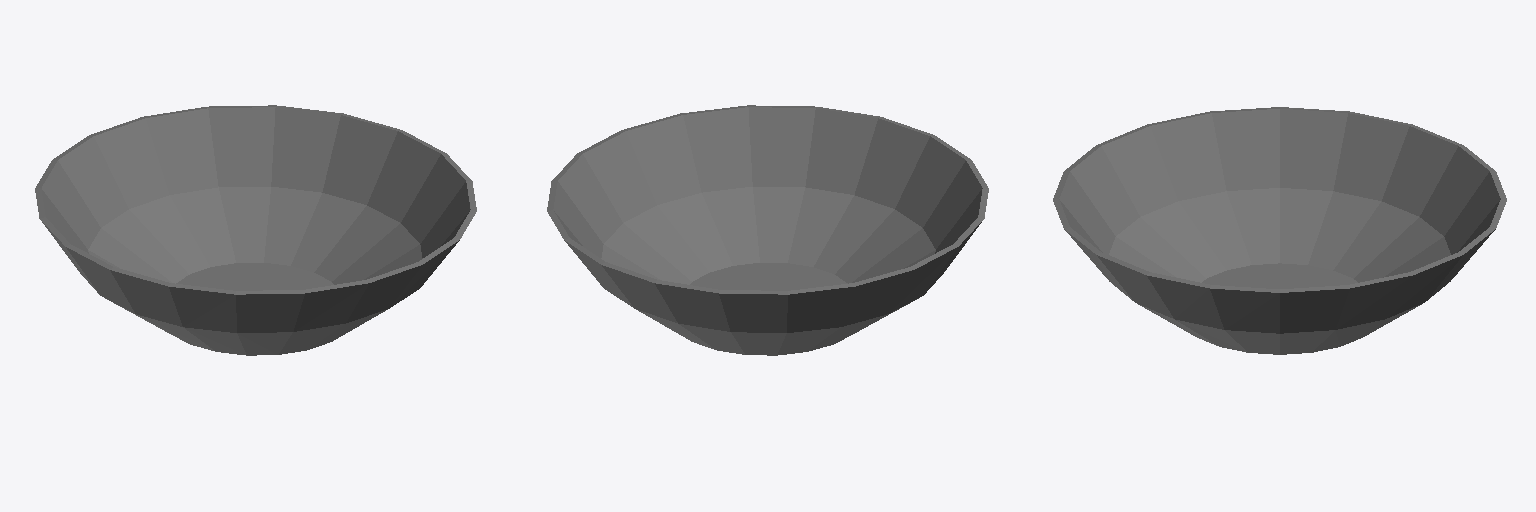
The model's file is Bowl.obj.
3 views of the same model, side by side, from view 1: azimuth 30°, elevation 25°; view 2: azimuth 150°, elevation 25°; view 3: azimuth 270°, elevation 25° (orthographic).
Visible parts, largest first — view 1: pCylinder380; view 2: pCylinder380; view 3: pCylinder380.
Boxes of the visible parts, <box> form: pCylinder380: <box>35,105,476,355</box>; pCylinder380: <box>547,105,988,355</box>; pCylinder380: <box>1053,107,1506,354</box>.
Bounding box in the file's own units: 1.15 × 0.3287 × 1.19.